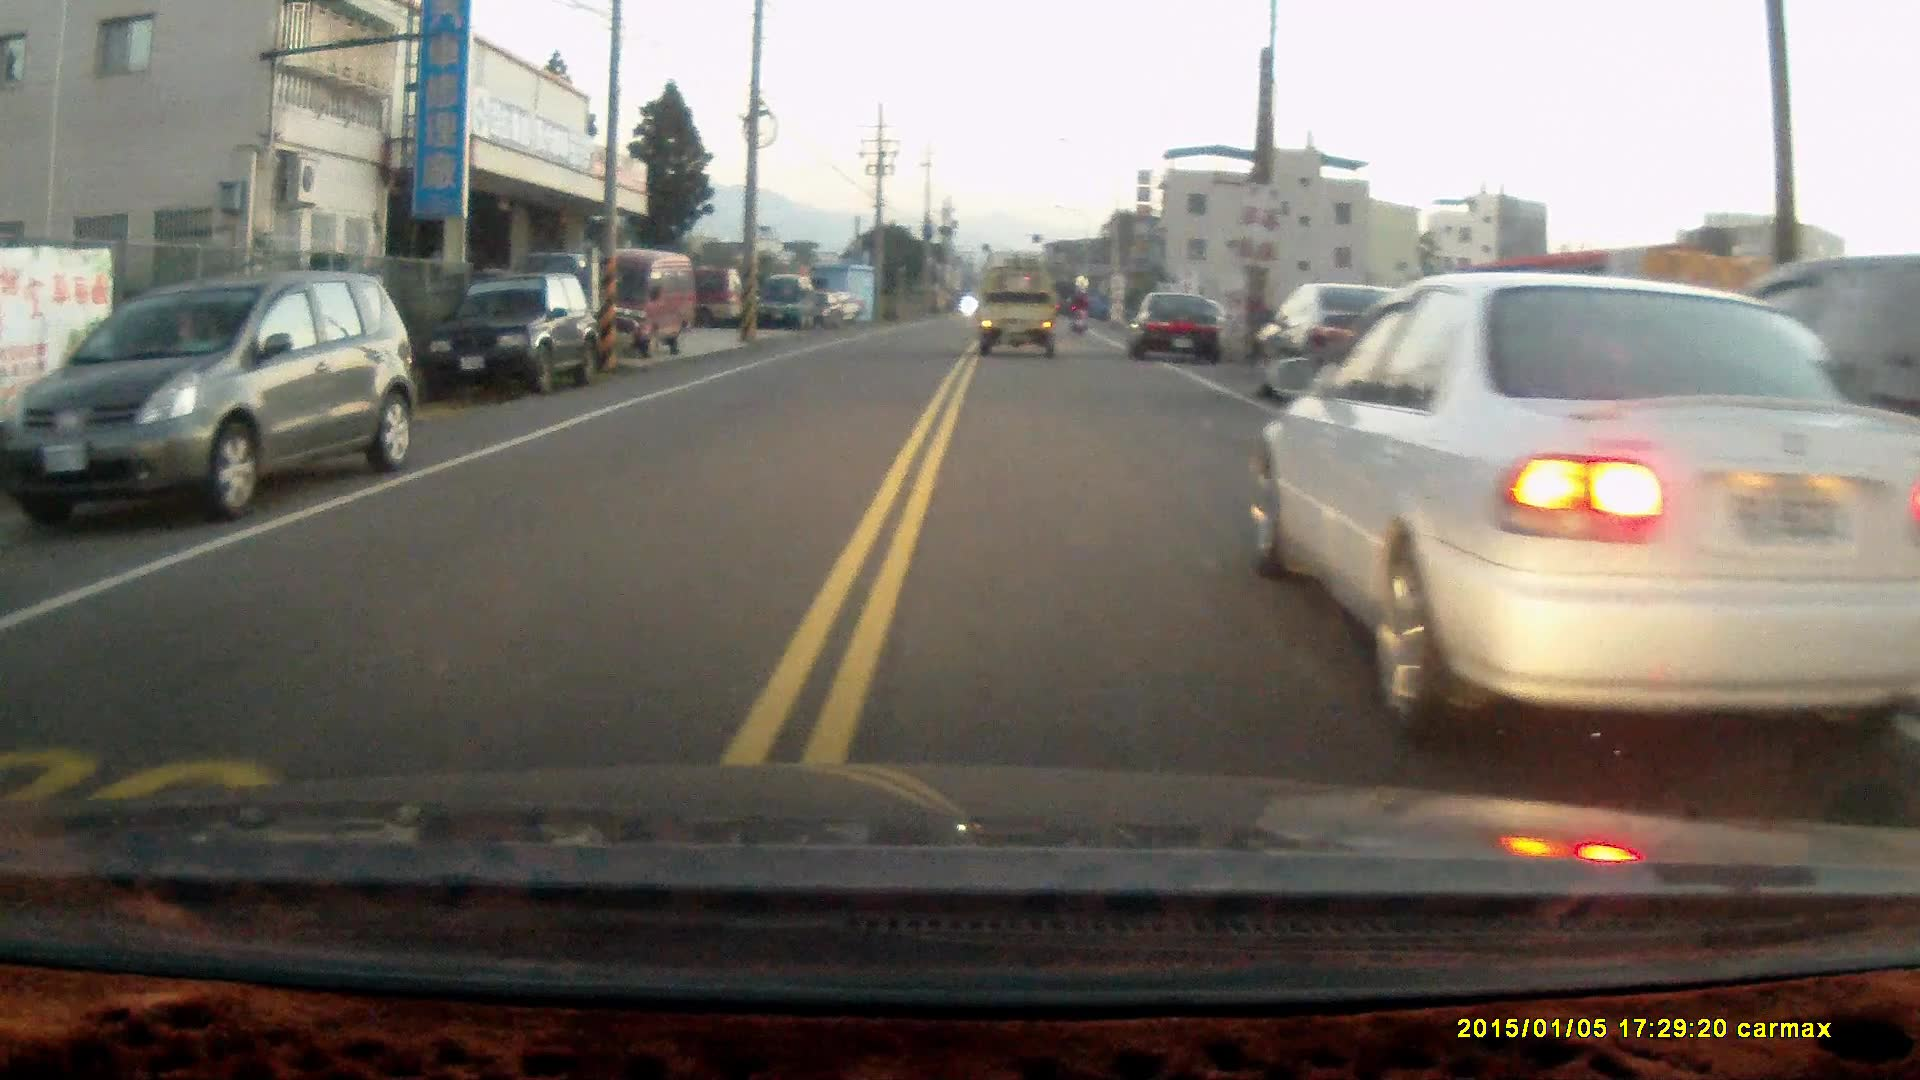rider: (1065, 288, 1092, 336)
vehicle: (1238, 266, 1920, 737), (1517, 256, 1920, 608), (6, 268, 412, 518), (1250, 280, 1445, 413), (432, 270, 602, 398), (571, 250, 699, 357), (970, 272, 1065, 358), (1125, 291, 1227, 364), (758, 272, 821, 334)
